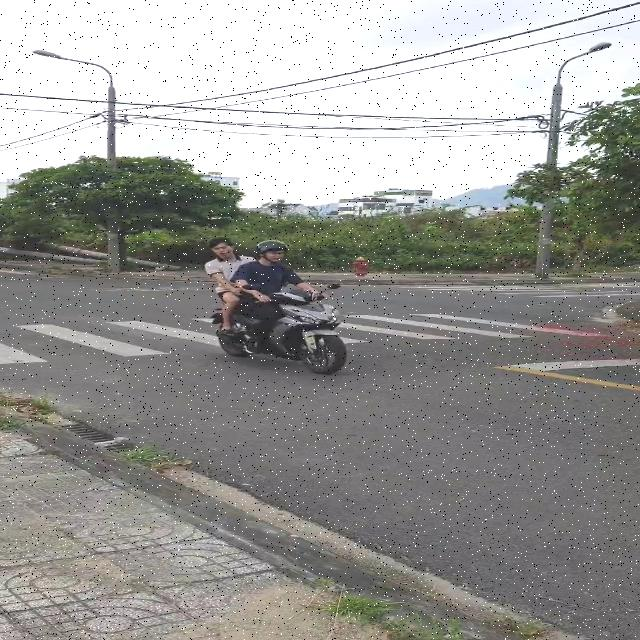helmet: (260, 238, 296, 276)
no_helmet: (208, 236, 245, 262)
